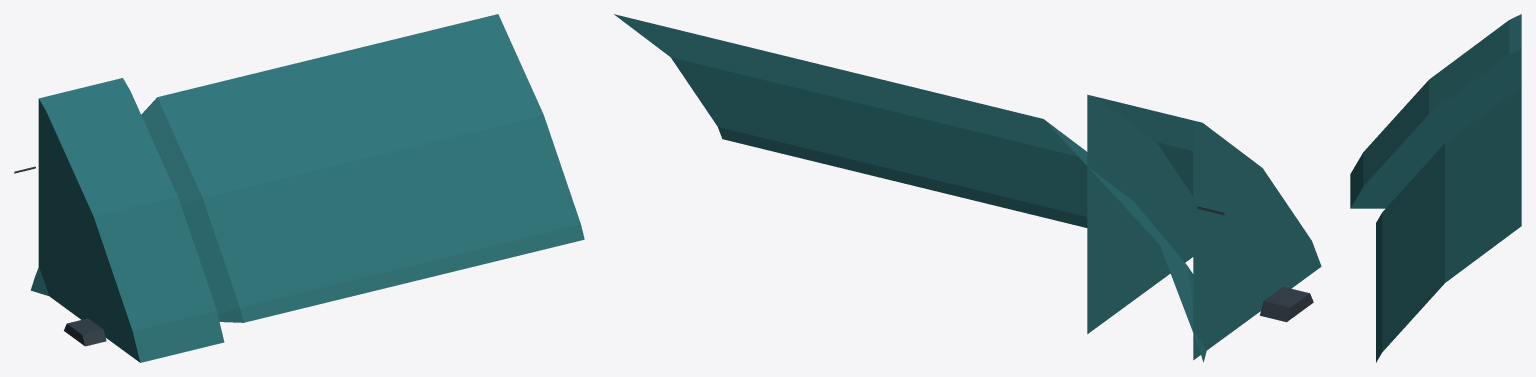
The model's file is cell_57.obj.
3 renders of one model, left to right at view 1: azimuth 30°, elevation 25°; view 2: azimuth 150°, elevation 25°; view 3: azimuth 270°, elevation 25°, orthographic. The views are drawn at different scales.
Size of the model in its own units: 0.8369 by 0.3141 by 0.3044.
